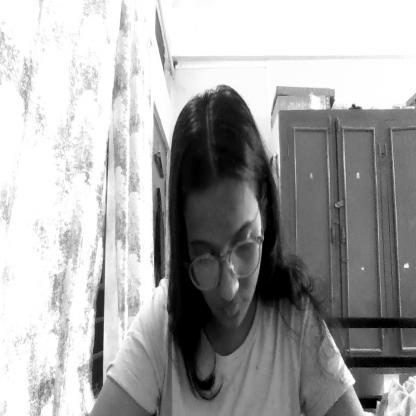Distracted: (174, 82, 272, 336)
